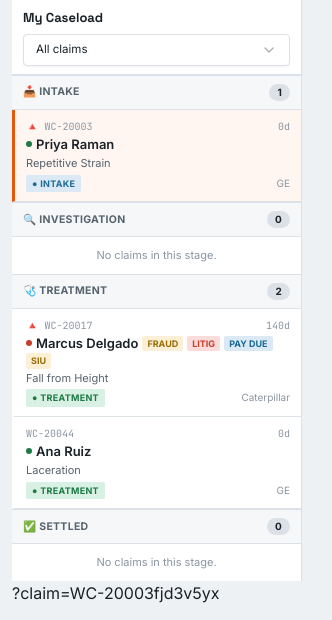
Test: choosing a filter asks the server again instead of narrowing what is cached
Expected: the number of buttons with test id "queue-card" is 3, [12,110,301,202]; [12,308,301,416]; [12,416,301,509]
Click the dropdown with test id "queue-filter".
click(62, 49)  # box [23,34,290,66]
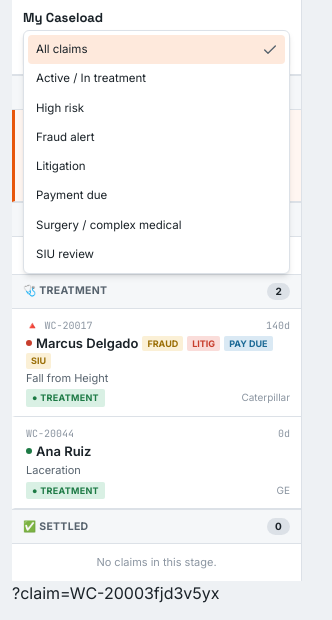
Click the option with test id "queue-filter-option-litigation".
click(61, 166)  # box [36,159,86,173]
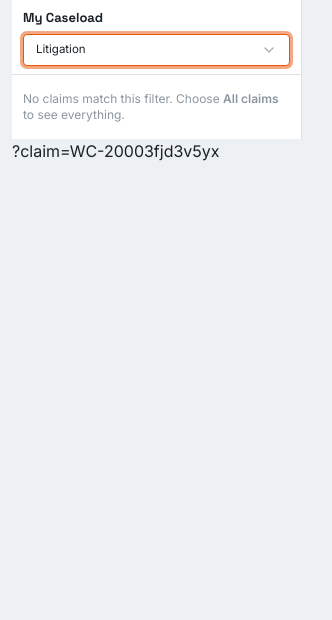
Now the element with test id "queue-empty-filter" is shown, box [23,90,279,122]
